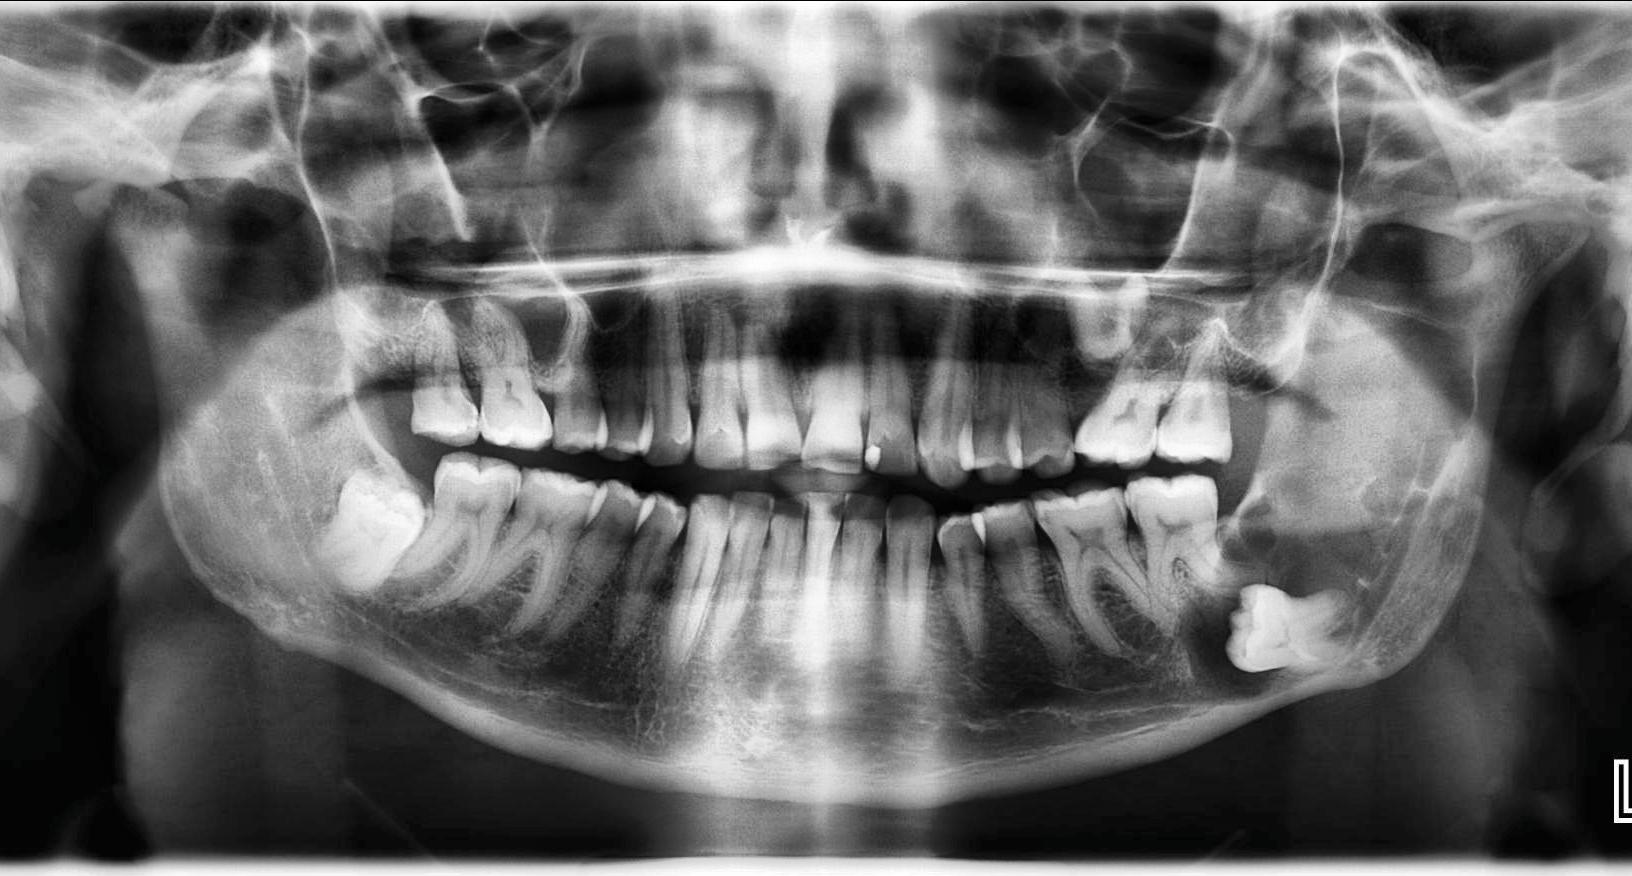keratokist: (1178, 298, 1477, 700)
